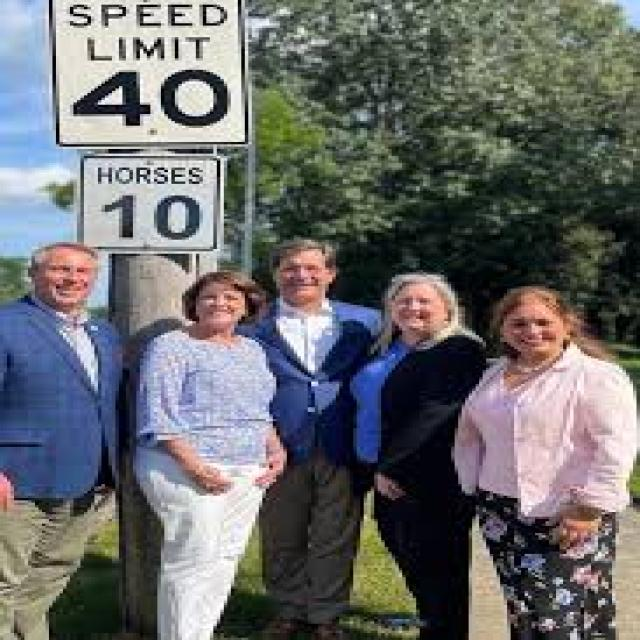speedLimit40: (47, 5, 247, 154)
